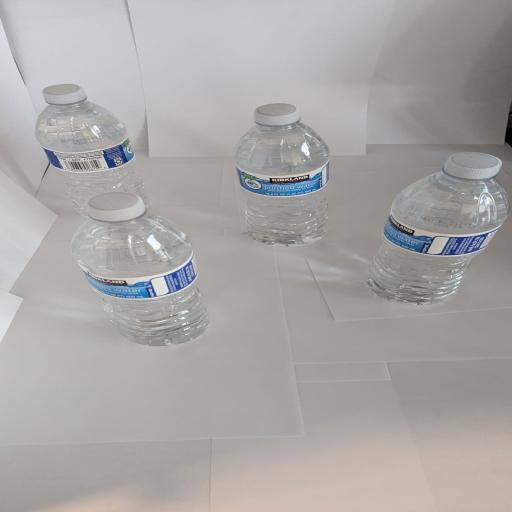waterbottle: (368, 153, 509, 304), (72, 193, 209, 345), (36, 85, 150, 216), (234, 104, 329, 246)
